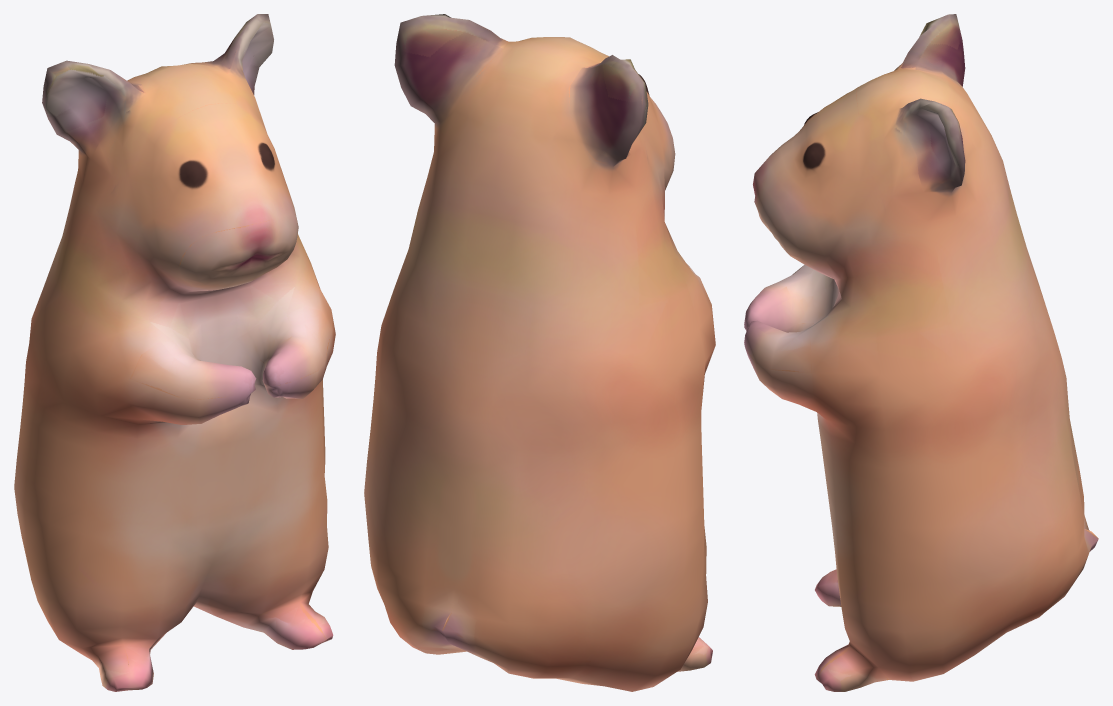
Rendered from hamtaro.glb.
The picture shows the model from 3 angles, left to right: view 1: azimuth 30°, elevation 25°; view 2: azimuth 150°, elevation 25°; view 3: azimuth 270°, elevation 25°; orthographic projection. The views are drawn at different scales.
Visible parts, largest first — view 1: Retopo; view 2: Retopo; view 3: Retopo.
Part boxes in pixels (x1,y1,x2,y2): Retopo: [14, 14, 335, 691]; Retopo: [364, 14, 715, 691]; Retopo: [744, 14, 1098, 691].
Size of the model in its own units: 0.5109 by 1.01 by 0.5565.
1 material, 1 textured.
